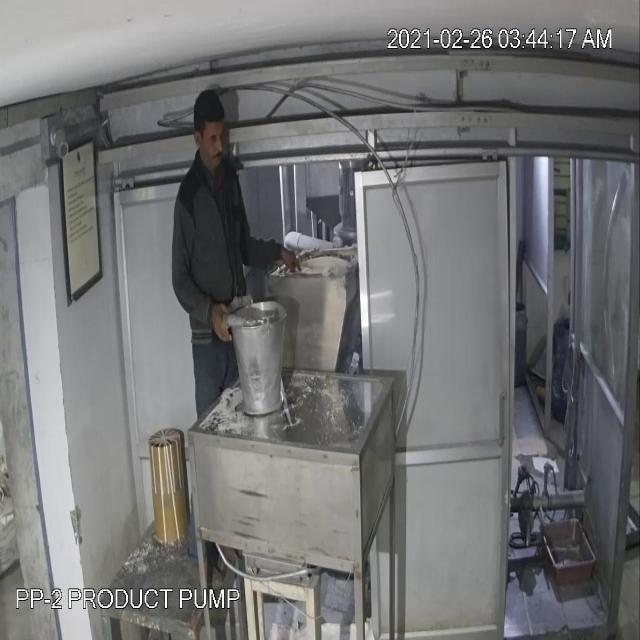no hat: (190, 87, 228, 152)
